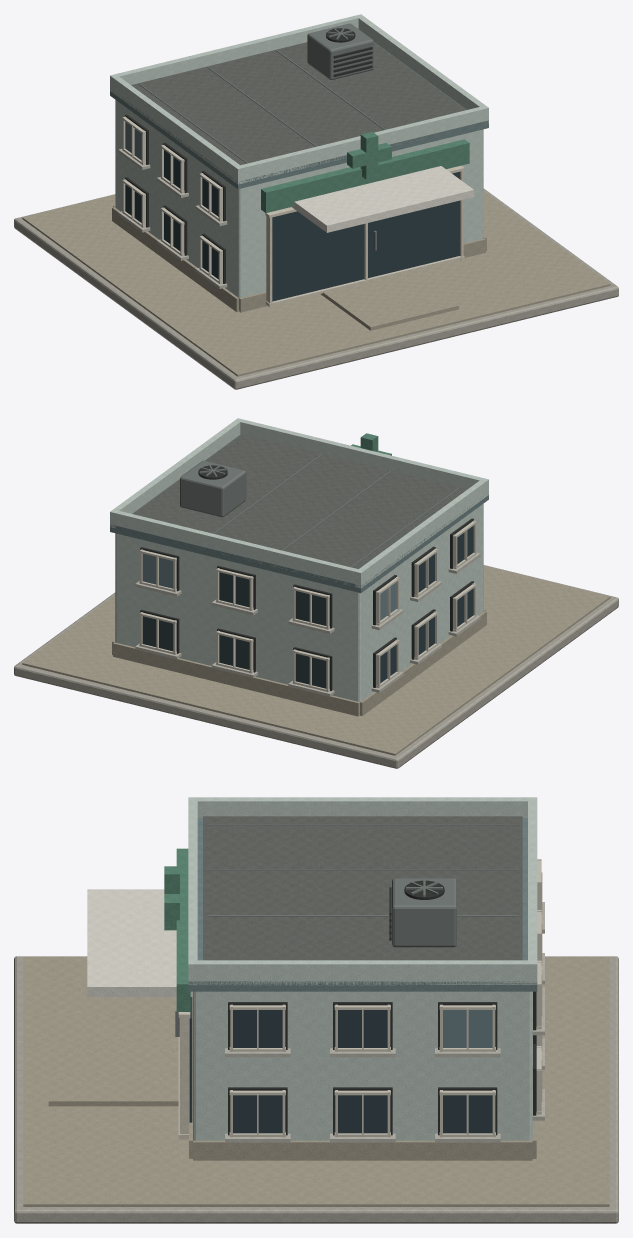
Rendered from EXP_SHOP_PHARMACY.glb.
3 renders of one model, top to bottom at view 1: azimuth 30°, elevation 25°; view 2: azimuth 150°, elevation 25°; view 3: azimuth 270°, elevation 25°, orthographic. The views are drawn at different scales.
Visible parts, largest first — view 1: EXP_SHOP_PHARMACY_Visual; view 2: EXP_SHOP_PHARMACY_Visual; view 3: EXP_SHOP_PHARMACY_Visual.
Boxes of the visible parts, x1,y1,x2,y2 form: EXP_SHOP_PHARMACY_Visual: [14, 14, 618, 389]; EXP_SHOP_PHARMACY_Visual: [14, 418, 618, 768]; EXP_SHOP_PHARMACY_Visual: [14, 797, 618, 1223].
Size of what is drawn, in the model's own units: 3.92 by 1.8 by 3.92.
Materials: 14 (9 with a texture image).
